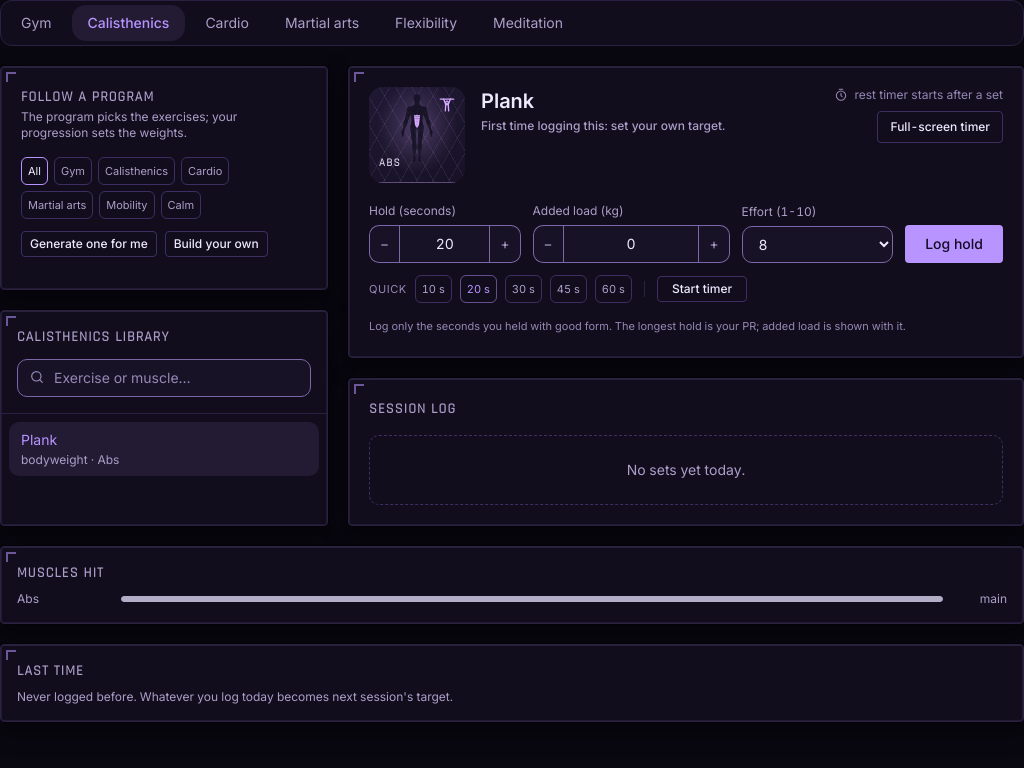
Test: Training page › logs a plank as a hold and shows seconds in the session, opened from the gallery
Expected: the button "Log hold" is shown, [905,225,1003,263]
Click the button "45 s" at (568, 289), box [550,275,587,303]
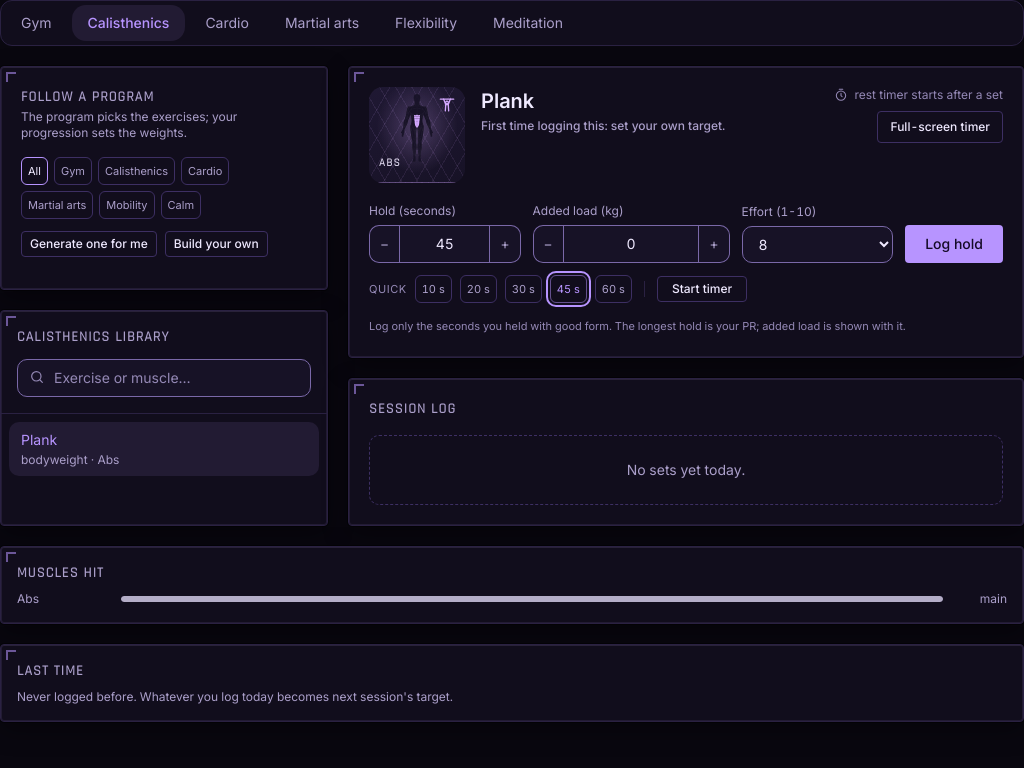
Click the button "Log hold" at (954, 244), box [905,225,1003,263]
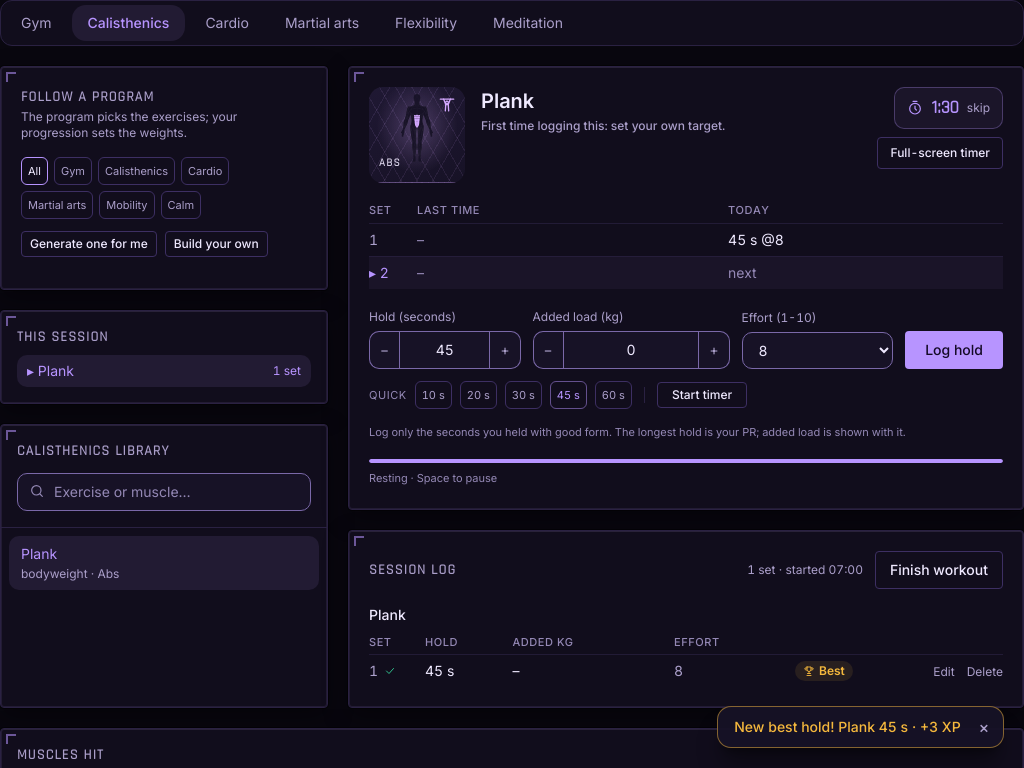
Expected: the column heading "Hold" is shown, [425,631,512,655]
Expected: the text "45 s" is shown, [425,655,512,687]
Expected: the text "New best hold! Plank 45 s · +3 XP" is shown, [734,717,961,737]
